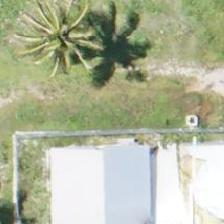coconut_tree: (0, 0, 82, 83)
